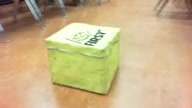cube: (44, 22, 120, 95)
